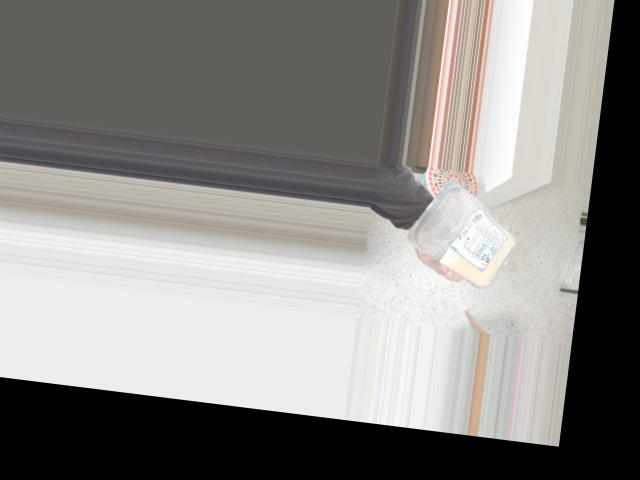cheese: (410, 178, 530, 282)
